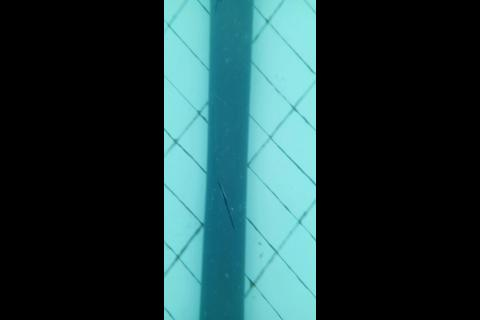keretakan: (216, 180, 237, 231)
